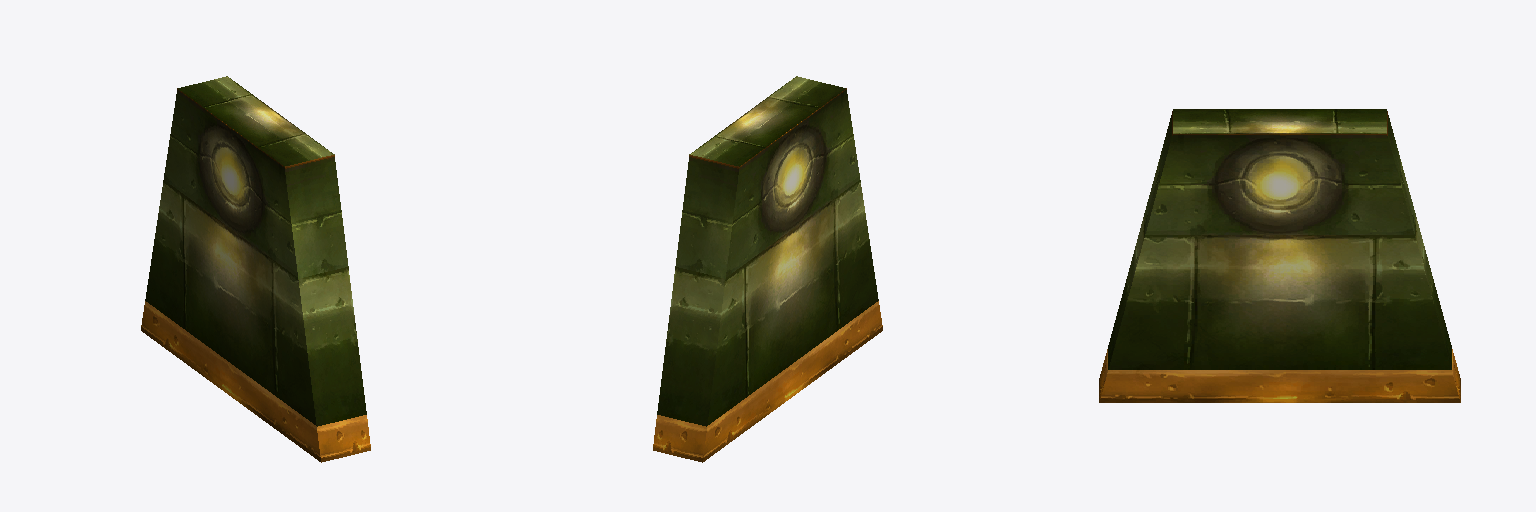
The picture shows the model from 3 angles: view 1: azimuth 30°, elevation 25°; view 2: azimuth 150°, elevation 25°; view 3: azimuth 270°, elevation 25°; orthographic projection.
Parts seen in each view (by area): view 1: GnomereganDoor01; view 2: GnomereganDoor01; view 3: GnomereganDoor01.
Part boxes in pixels (x1,y1,x2,y2): GnomereganDoor01: (141,76,370,462); GnomereganDoor01: (653,76,882,462); GnomereganDoor01: (1099,109,1460,402).
Size of the model in its own units: 2.49 by 12.75 by 15.51.
1 materials, 1 textured.